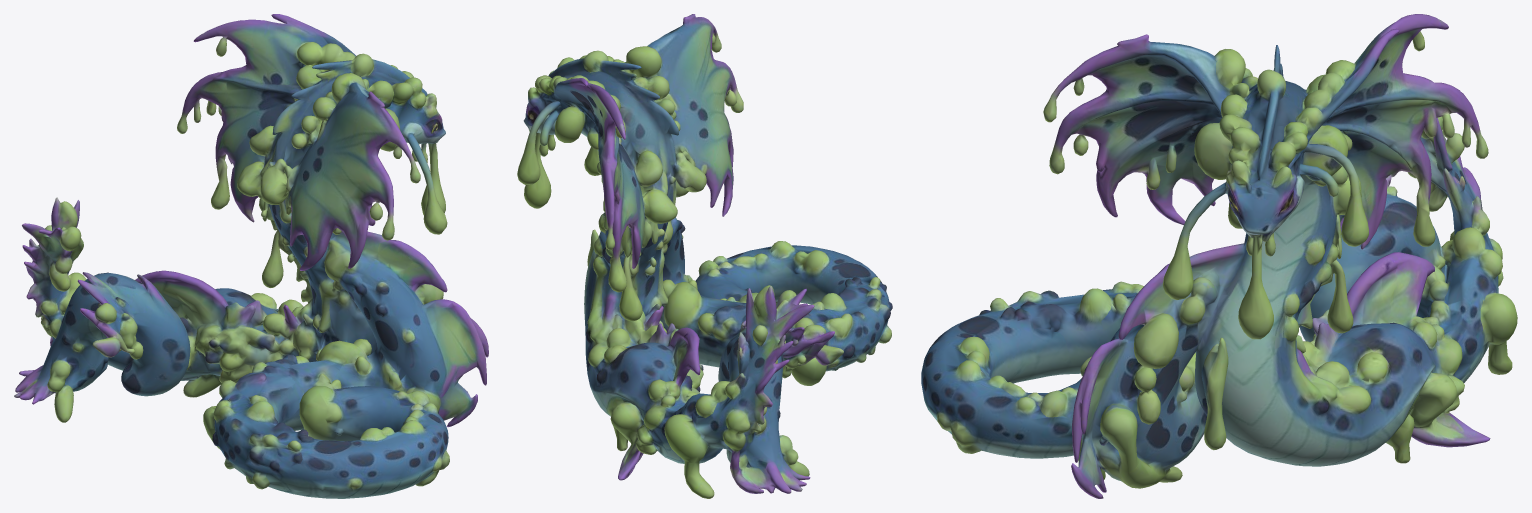
Rendered from n4_sludgeviper.97cc7edc.glb.
3 views of the same model, side by side, from view 1: azimuth 30°, elevation 25°; view 2: azimuth 150°, elevation 25°; view 3: azimuth 270°, elevation 25° (orthographic). The views are drawn at different scales.
Parts seen in each view (by area): view 1: tripo_node_7825ddb8-d3f0-41fd-ba50-11ff4b074aa6; view 2: tripo_node_7825ddb8-d3f0-41fd-ba50-11ff4b074aa6; view 3: tripo_node_7825ddb8-d3f0-41fd-ba50-11ff4b074aa6.
Part boxes in pixels (left/top/right/bottom): tripo_node_7825ddb8-d3f0-41fd-ba50-11ff4b074aa6: left=14, top=14, right=488, bottom=498; tripo_node_7825ddb8-d3f0-41fd-ba50-11ff4b074aa6: left=517, top=14, right=892, bottom=498; tripo_node_7825ddb8-d3f0-41fd-ba50-11ff4b074aa6: left=921, top=14, right=1517, bottom=498.
Size of the model in its own units: 0.8757 by 0.8491 by 0.9992.
Materials: 1 (1 with a texture image).
